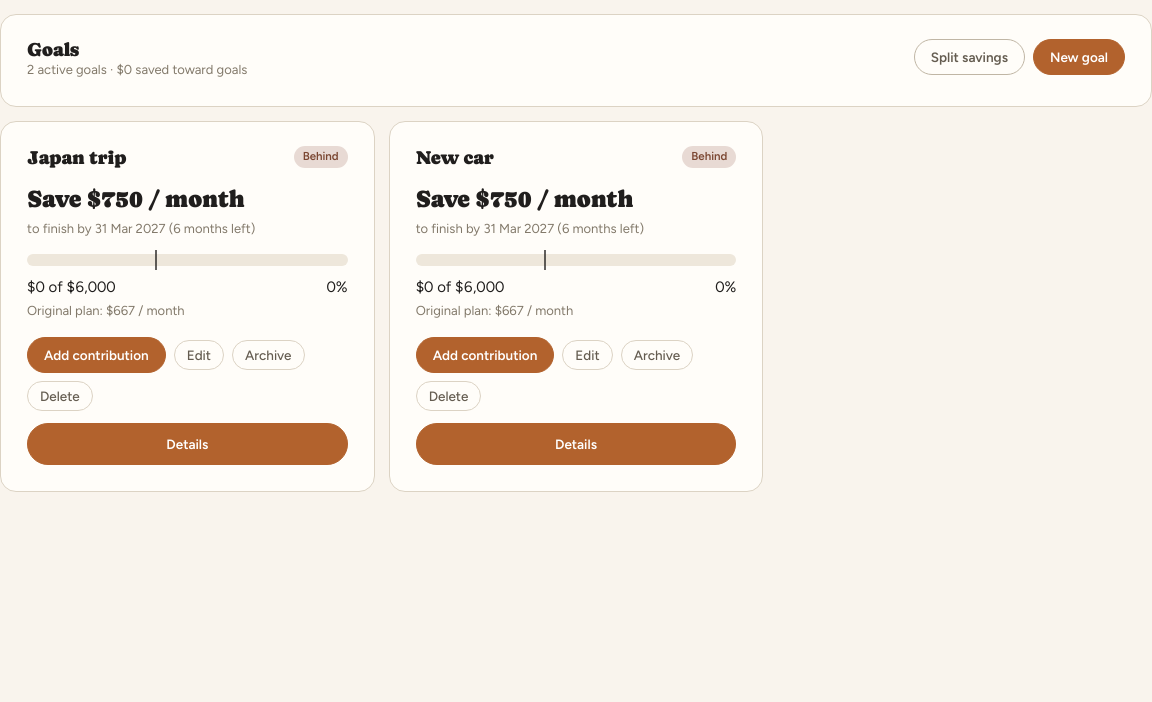
Test: Split savings › shows why the server refused a split and keeps the panel open
The width and height of the screenshot is (1152, 702).
Click the button "Split savings" at point(969, 57), box [914, 39, 1025, 75]
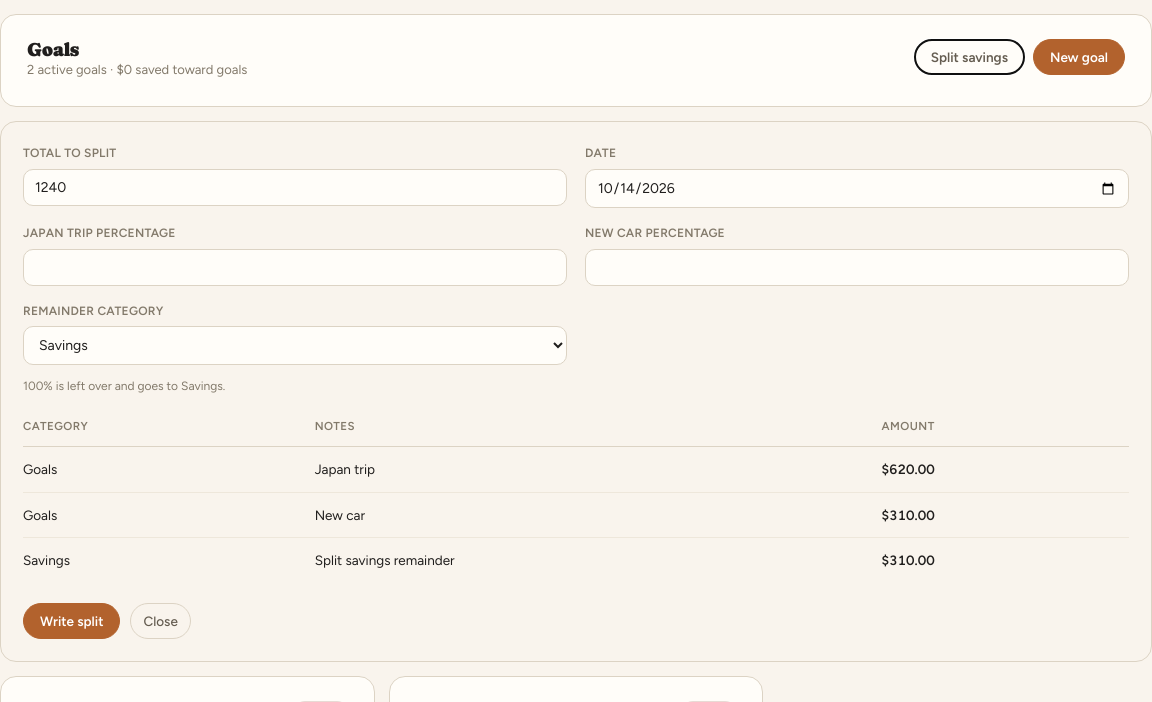
Type "50" into the number field labelled "Japan trip percentage" at point(295, 267), box [23, 249, 567, 286]
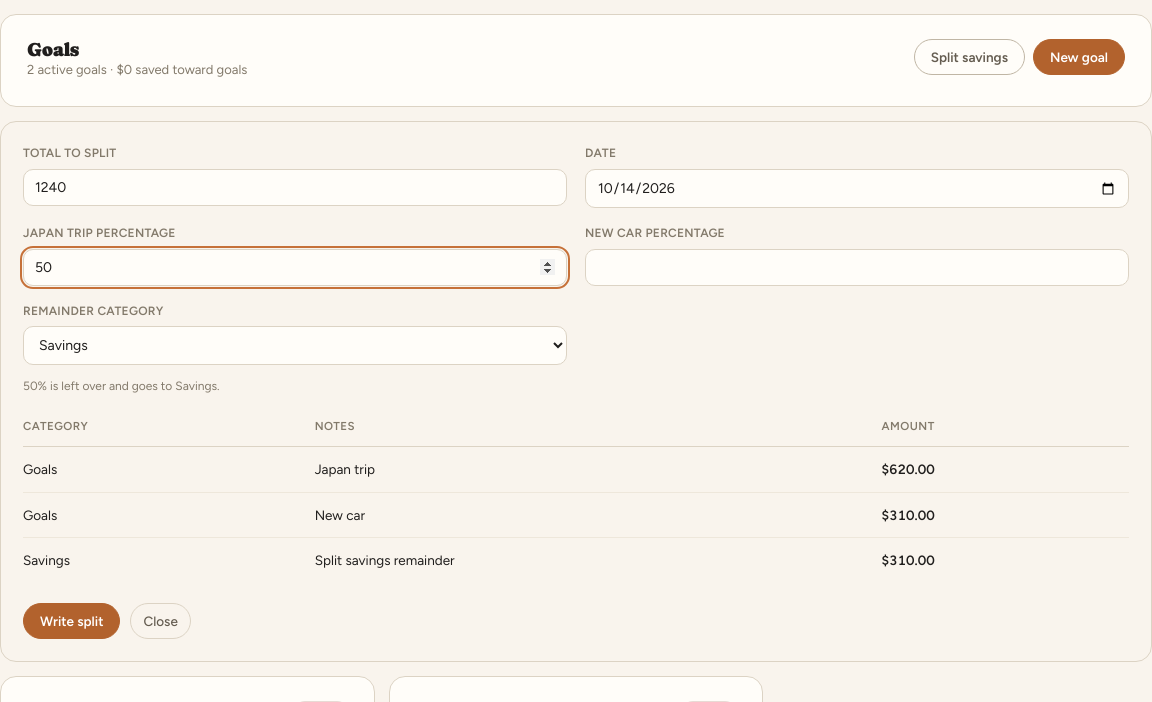
Check: the table named "Transactions to be written" is shown, box [23, 418, 1129, 583]
Click the button "Write split" at point(72, 621), box [23, 603, 120, 639]
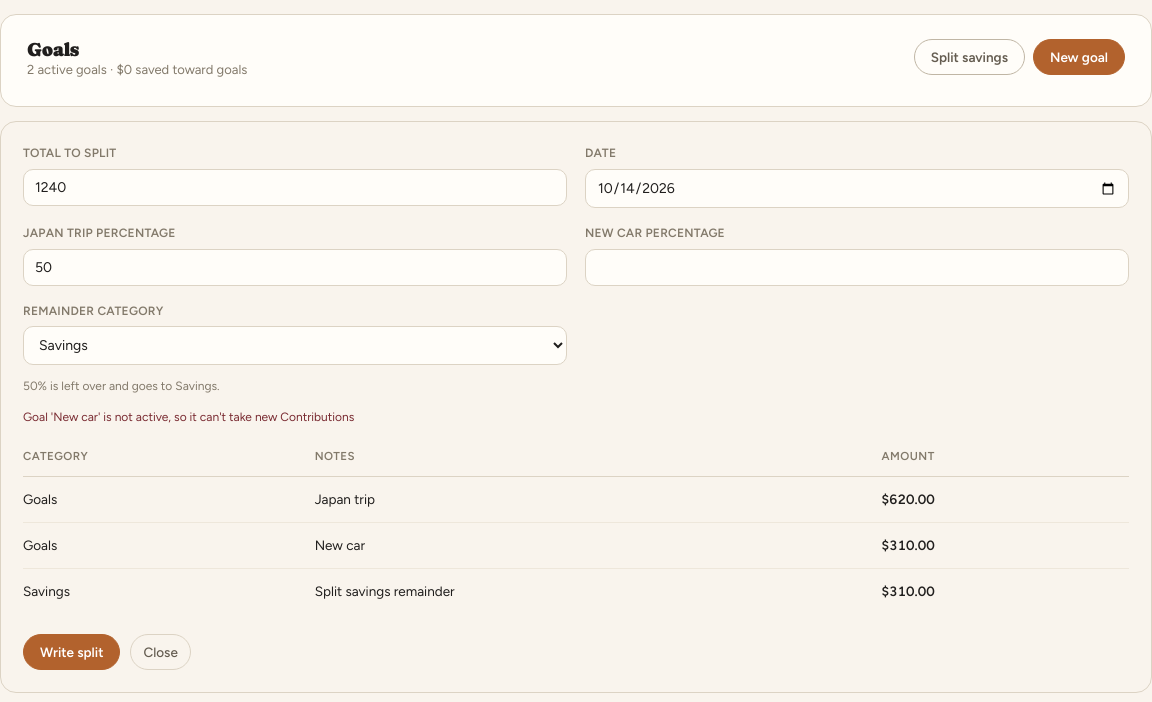
Check: the form named "Split savings" is shown
Check: the message shows "is not active", box [23, 410, 354, 424]
